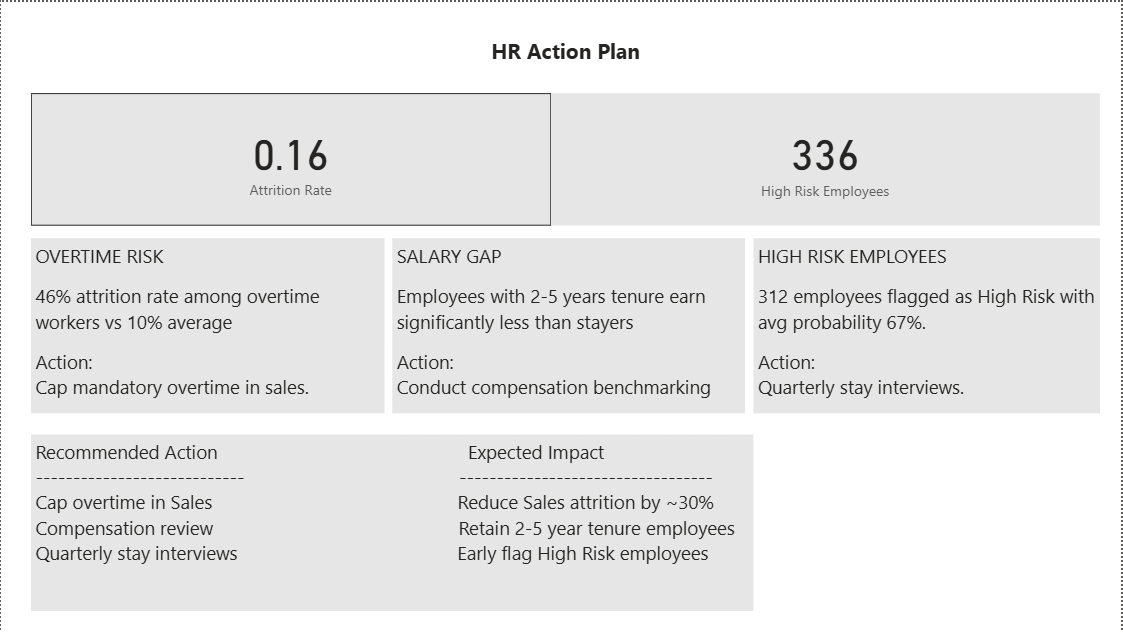

The dashboard page shown, as its layout file describes it:
{"tool":"powerbi","page":{"name":"Page 4","canvas":[1280,720],"ordinal":3},"visuals":[{"type":"textbox","box":[9.6,0,1270.7,104.3],"z":0},{"type":"card","fields":{"Values":["hr_scored.Attrition Rate"]},"box":[34.3,104.3,594.3,151.4],"z":1000},{"type":"card","fields":{"Values":["hr_scored.High Risk Employees"]},"box":[628.6,104.3,627.1,151.4],"z":2000},{"type":"textbox","box":[34.3,270,404.3,200],"z":3000},{"type":"textbox","box":[447.1,270,402.9,200],"z":4000},{"type":"textbox","box":[860,270,395.7,200],"z":5000},{"type":"textbox","box":[34.3,494.3,825.7,201.4],"z":6000}]}

Visuals, with their boxes in screenshot pixels (x1, y1, x2, y2), scaled from the page's 1280x720 canvas onto the 1123x632 screenshot:
textbox: bbox=(8, 0, 1122, 92)
card - hr_scored.Attrition Rate: bbox=(30, 92, 551, 224)
card - hr_scored.High Risk Employees: bbox=(551, 92, 1102, 224)
textbox: bbox=(30, 237, 385, 413)
textbox: bbox=(392, 237, 746, 413)
textbox: bbox=(755, 237, 1102, 413)
textbox: bbox=(30, 434, 755, 611)
